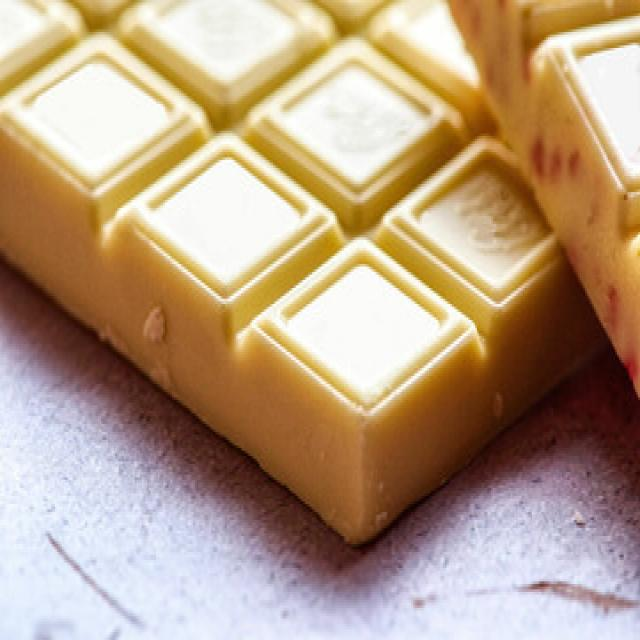chocolate: (0, 0, 640, 557)
